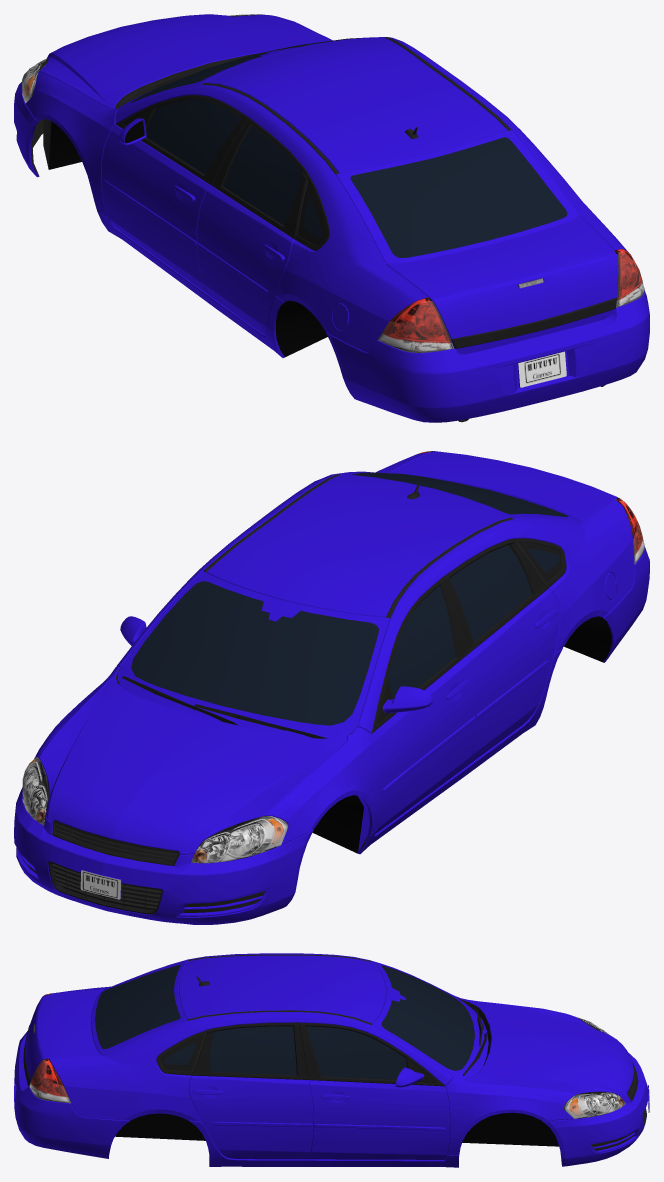
Rendered from Chevrolet_Impala.FBX.
The picture shows the model from 3 angles, top to bottom: view 1: azimuth 30°, elevation 25°; view 2: azimuth 150°, elevation 25°; view 3: azimuth 270°, elevation 25°; orthographic projection. The views are drawn at different scales.
Visible parts, largest first — view 1: Box001; view 2: Box001; view 3: Box001.
Part boxes in pixels (left/top/right/bottom): Box001: left=14, top=14, right=649, bottom=422; Box001: left=14, top=451, right=649, bottom=924; Box001: left=14, top=953, right=649, bottom=1167.
Size of the model in its own units: 1.91 by 1.23 by 4.76.
Materials: 8 (1 with a texture image).
